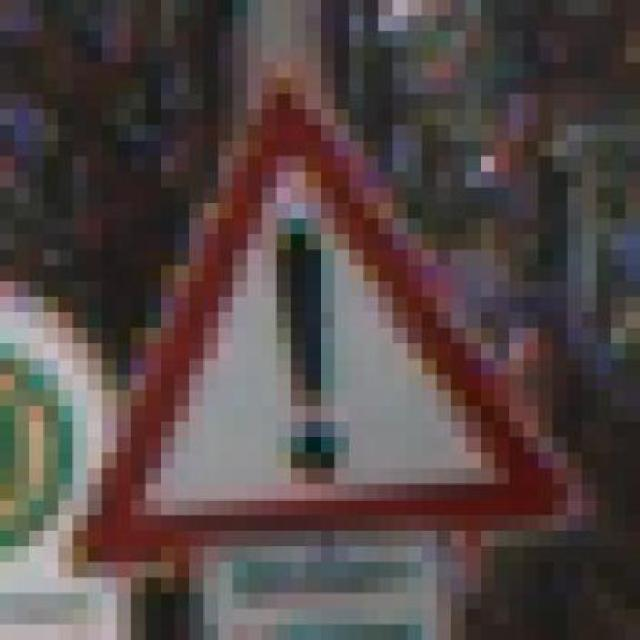Attention Please-: (43, 62, 597, 593)
